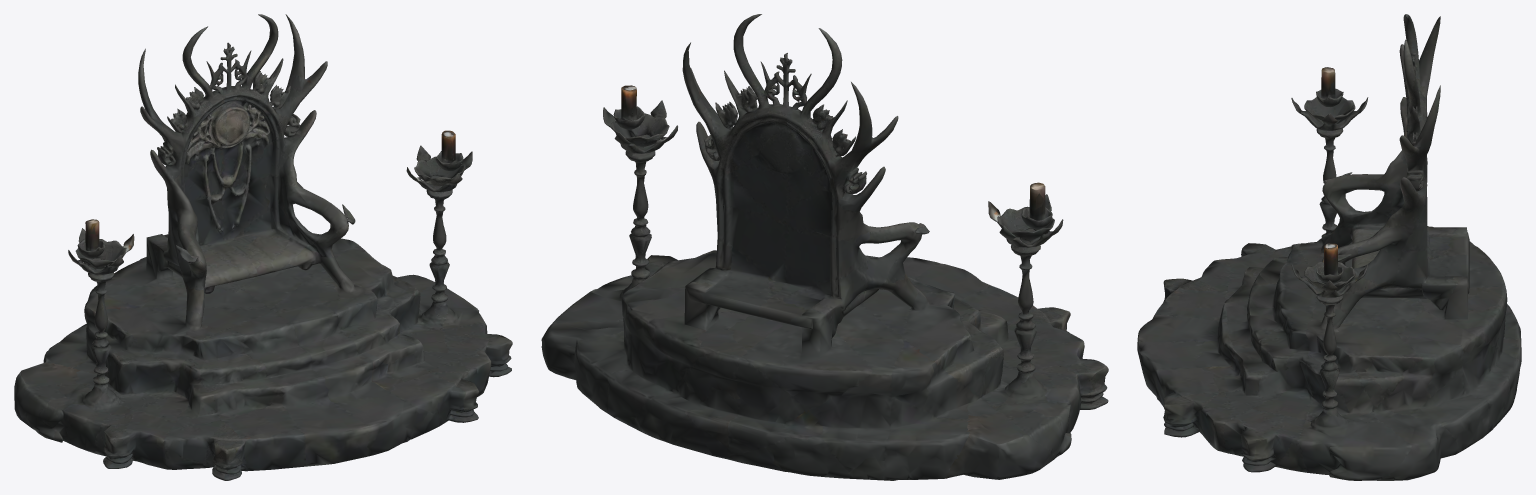
Rendered from throne.glb.
3 views of the same model, side by side, from view 1: azimuth 30°, elevation 25°; view 2: azimuth 150°, elevation 25°; view 3: azimuth 270°, elevation 25° (orthographic). The views are drawn at different scales.
Bounding box in the file's own units: 1.9 × 1.43 × 1.43.
1 material, 1 textured.
